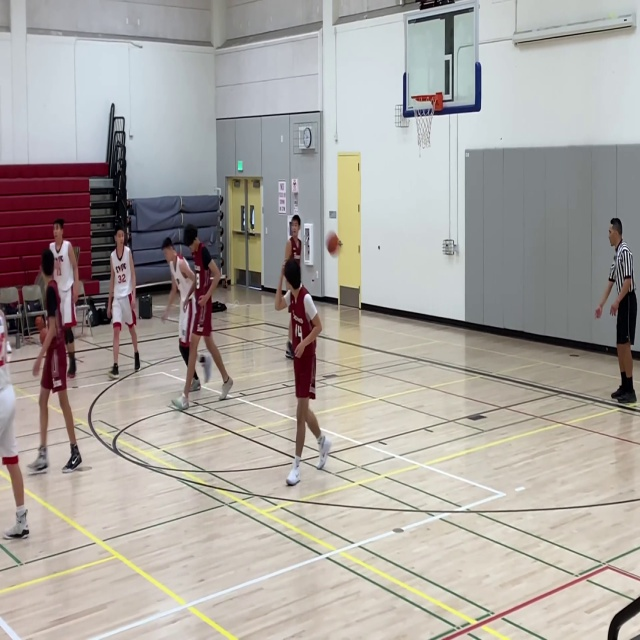Basketball: (325, 231, 340, 256)
